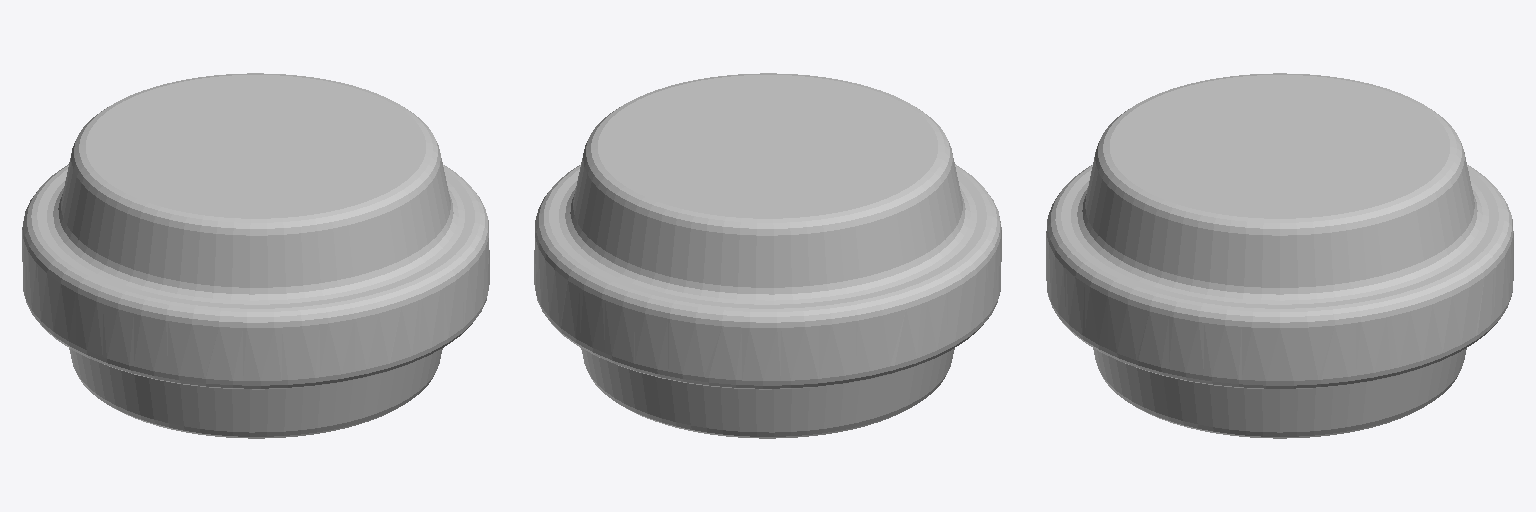
File: bolt_foot.obj
3 renders of one model, left to right at view 1: azimuth 30°, elevation 25°; view 2: azimuth 150°, elevation 25°; view 3: azimuth 270°, elevation 25°, orthographic.
Visible parts, largest first — view 1: obj1; view 2: obj1; view 3: obj1.
Part boxes in pixels (bbox=[...]): obj1: bbox=[22, 73, 489, 438]; obj1: bbox=[534, 73, 1001, 438]; obj1: bbox=[1046, 73, 1513, 438].
Bounding box in the file's own units: 0.032 × 0.0165 × 0.032.